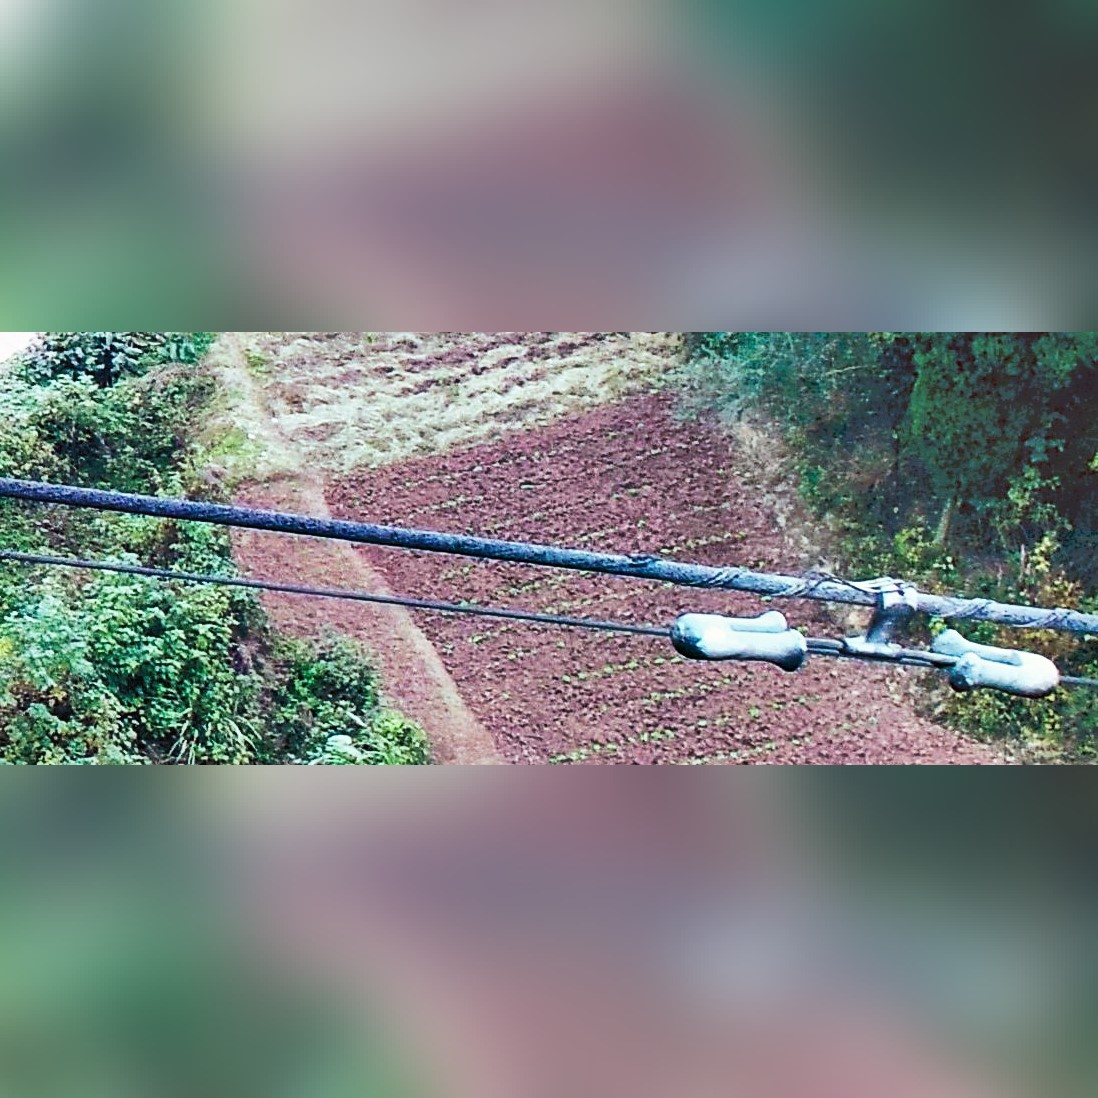Shockproof hammer: (654, 558, 1063, 709)
